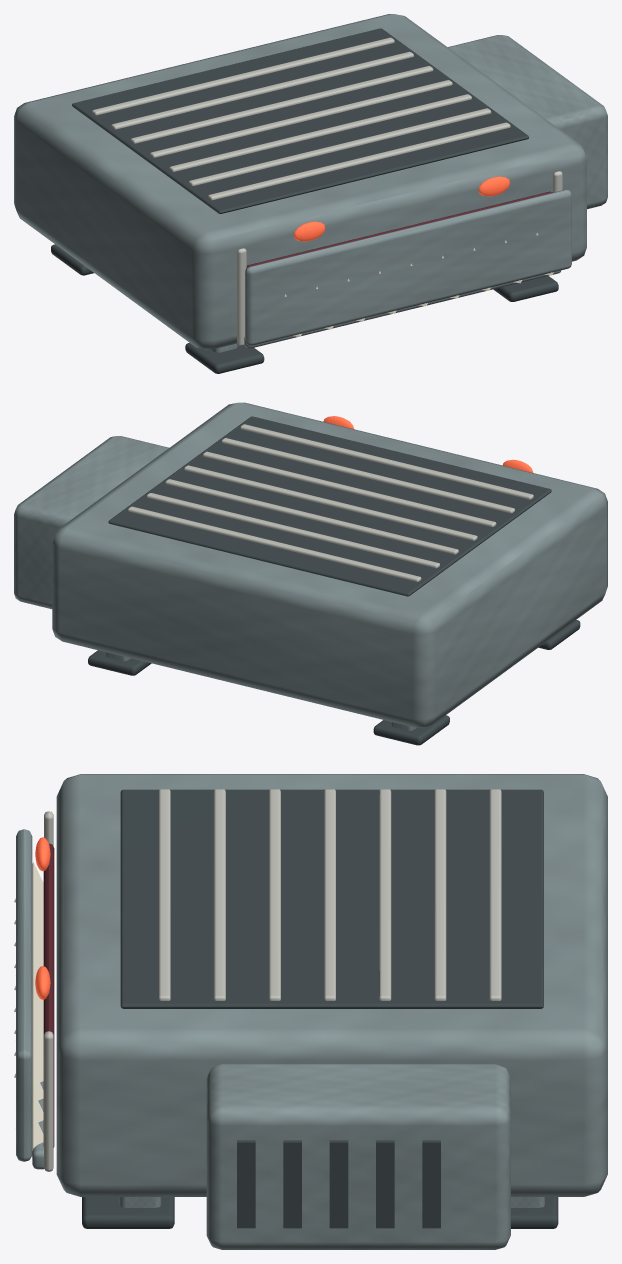
Rendered from air-conditioner.glb.
3 renders of one model, top to bottom at view 1: azimuth 30°, elevation 25°; view 2: azimuth 150°, elevation 25°; view 3: azimuth 270°, elevation 25°, orthographic. The views are drawn at different scales.
Visible parts, largest first — view 1: AC cabinet, AC top fan recess, ac_mouth_cover, AC side electronics box, AC top fan slat.006, AC top fan slat, AC top fan slat.004, AC top fan slat.001, AC top fan slat.002, AC top fan slat.003, AC top fan slat.005, AC marching foot pad (+6 smaller); view 2: AC cabinet, AC top fan recess, AC side electronics box, AC top fan slat.003, AC top fan slat, AC top fan slat.004, AC top fan slat.006, AC top fan slat.001, AC top fan slat.002, AC top fan slat.005, AC marching foot pad.001, AC marching foot pad.003; view 3: AC cabinet, AC top fan recess, AC side electronics box, ac_mouth_cover, AC top fan slat, AC top fan slat.001, AC top fan slat.004, AC top fan slat.005, AC top fan slat.006, AC top fan slat.002, AC top fan slat.003, AC marching foot pad.002 (+8 smaller).
Boxes of the visible parts, <box> form: AC cabinet: <box>14,14,586,349</box>; AC top fan recess: <box>72,28,528,213</box>; ac_mouth_cover: <box>245,190,571,345</box>; AC side electronics box: <box>448,35,607,209</box>; AC top fan slat.006: <box>92,37,394,115</box>; AC top fan slat: <box>208,122,510,200</box>; AC top fan slat.004: <box>130,66,433,143</box>; AC top fan slat.001: <box>188,108,491,185</box>; AC top fan slat.002: <box>169,94,471,171</box>; AC top fan slat.003: <box>150,80,452,157</box>; AC top fan slat.005: <box>111,51,413,129</box>; AC marching foot pad: <box>185,343,264,373</box>; AC cabinet: <box>52,402,607,727</box>; AC top fan recess: <box>108,416,551,596</box>; AC side electronics box: <box>14,436,169,609</box>; AC top fan slat.003: <box>184,465,477,540</box>; AC top fan slat: <box>240,424,533,499</box>; AC top fan slat.004: <box>165,479,458,554</box>; AC top fan slat.006: <box>128,506,421,581</box>; AC top fan slat.001: <box>221,438,514,513</box>; AC top fan slat.002: <box>203,451,496,526</box>; AC top fan slat.005: <box>146,493,439,568</box>; AC marching foot pad.001: <box>373,715,449,745</box>; AC marching foot pad.003: <box>88,650,151,675</box>; AC cabinet: <box>56,774,607,1196</box>; AC top fan recess: <box>120,789,543,1008</box>; AC side electronics box: <box>206,1064,510,1249</box>; ac_mouth_cover: <box>16,829,32,1161</box>; AC top fan slat: <box>158,789,170,1000</box>; AC top fan slat.001: <box>213,789,225,1000</box>; AC top fan slat.004: <box>379,789,391,1000</box>; AC top fan slat.005: <box>434,789,446,1000</box>; AC top fan slat.006: <box>489,789,501,1000</box>; AC top fan slat.002: <box>269,789,280,1000</box>; AC top fan slat.003: <box>324,789,335,1000</box>; AC marching foot pad.002: <box>82,1197,174,1228</box>.
Bounding box in the file's own units: 3.51 × 1.1 × 2.69.
Materials: 6 (1 with a texture image).
